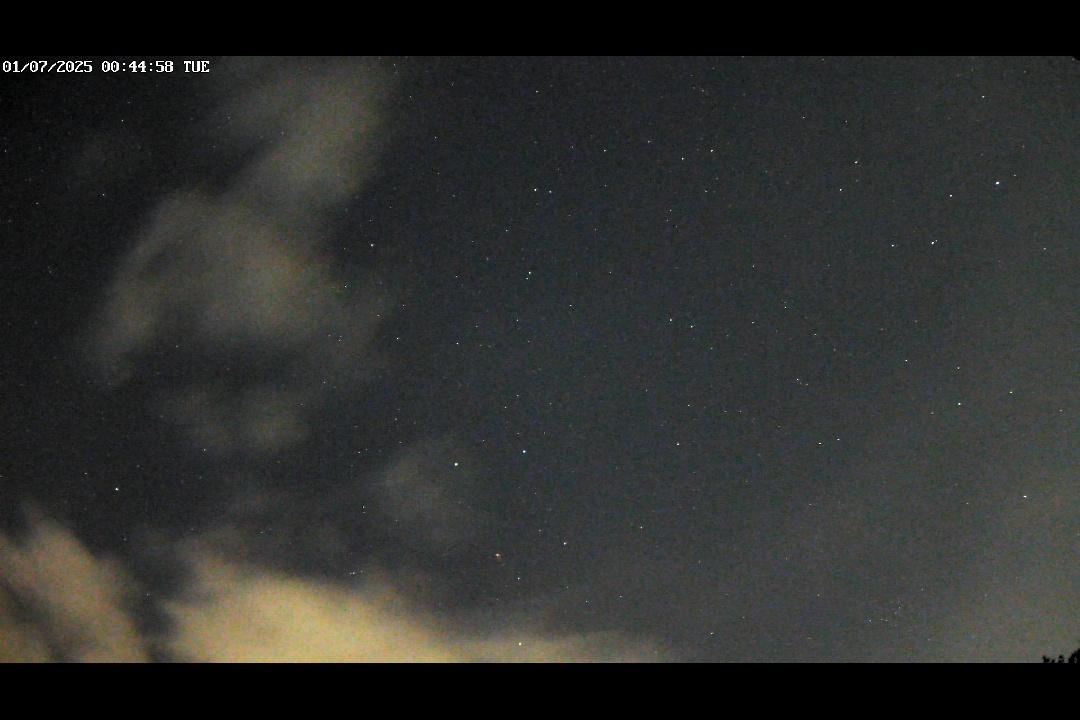Plane: (492, 544, 517, 575)
